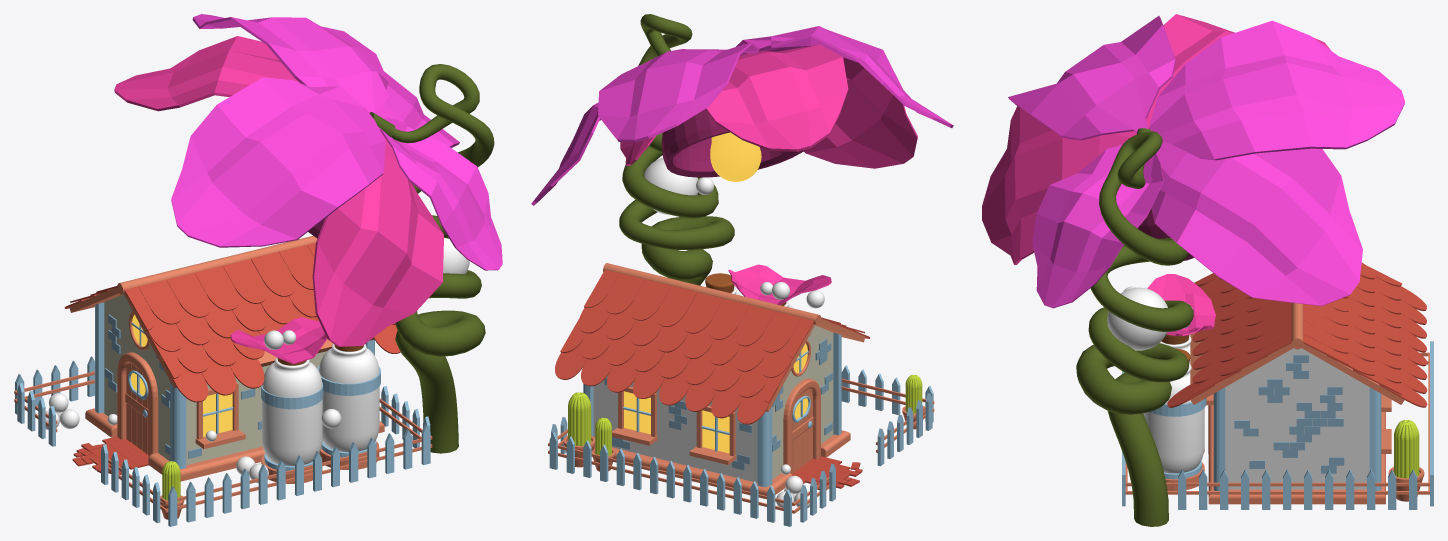
Rendered from incubator.glb.
3 renders of one model, left to right at view 1: azimuth 30°, elevation 25°; view 2: azimuth 150°, elevation 25°; view 3: azimuth 270°, elevation 25°, orthographic. The views are drawn at different scales.
Visible parts, largest first — view 1: Plane.006, Plane.007, BezierCurve, Plane.005, Plane.009, Plane.004, Cube.078, Cylinder.002, Cylinder.007, Plane.012, Cube.076, Cube.008 (+31 smaller); view 2: Plane.004, BezierCurve, Plane.005, Plane.007, Plane, Plane.006, Sphere.036, Cube.078, Cylinder.020, Plane.012, Cube.008, Cube.005 (+49 smaller); view 3: Plane.008, Plane.005, BezierCurve, Plane.002, Plane.006, Plane.009, Plane.007, Cylinder.007, Plane.004, Cube.008, Plane.012, Sphere.037 (+14 smaller).
Part boxes in pixels (bbox=[...]): Plane.006: bbox=[171, 77, 385, 247]; Plane.007: bbox=[312, 132, 443, 346]; BezierCurve: bbox=[391, 64, 494, 453]; Plane.005: bbox=[192, 14, 389, 113]; Plane.009: bbox=[378, 117, 502, 270]; Plane.004: bbox=[114, 36, 299, 111]; Cube.078: bbox=[104, 294, 326, 464]; Cylinder.002: bbox=[262, 357, 322, 465]; Cylinder.007: bbox=[319, 343, 379, 452]; Plane.012: bbox=[230, 317, 327, 364]; Cube.076: bbox=[117, 352, 158, 456]; Cube.008: bbox=[85, 408, 384, 481]; Plane.004: bbox=[705, 44, 848, 151]; BezierCurve: bbox=[619, 14, 734, 285]; Plane.005: bbox=[598, 42, 759, 142]; Plane.007: bbox=[803, 57, 917, 168]; Plane: bbox=[593, 375, 757, 482]; Plane.006: bbox=[736, 26, 953, 127]; Sphere.036: bbox=[661, 109, 804, 177]; Cube.078: bbox=[772, 325, 833, 479]; Cylinder.020: bbox=[710, 132, 761, 181]; Plane.012: bbox=[728, 264, 831, 305]; Cube.008: bbox=[594, 430, 850, 495]; Cube.005: bbox=[603, 263, 821, 325]; Plane.008: bbox=[1146, 141, 1362, 306]; Plane.005: bbox=[1149, 20, 1405, 160]; BezierCurve: bbox=[1076, 131, 1193, 526]; Plane.002: bbox=[1225, 348, 1369, 489]; Plane.006: bbox=[1008, 16, 1175, 140]; Plane.009: bbox=[1032, 144, 1163, 308]; Plane.007: bbox=[982, 105, 1136, 264]; Cylinder.007: bbox=[1143, 364, 1204, 473]; Plane.004: bbox=[1146, 14, 1330, 128]; Cube.008: bbox=[1208, 405, 1385, 504]; Plane.012: bbox=[1147, 274, 1215, 335]; Sphere.037: bbox=[1107, 287, 1167, 350].
Bounding box in the file's own units: 4.77 × 5.6 × 5.38.
